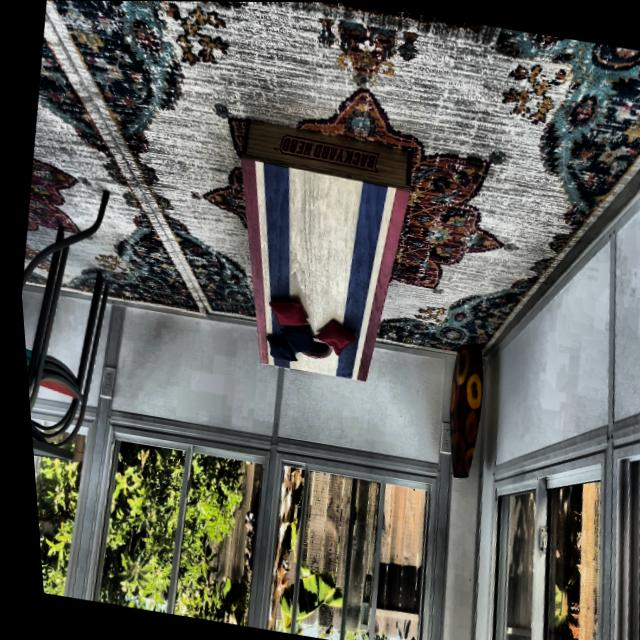blue-bean-bag: (258, 333, 296, 365), (273, 325, 312, 355)
board: (235, 166, 398, 382)
hole: (293, 336, 328, 362)
red-bean-bag: (307, 318, 355, 360), (261, 297, 307, 330)
